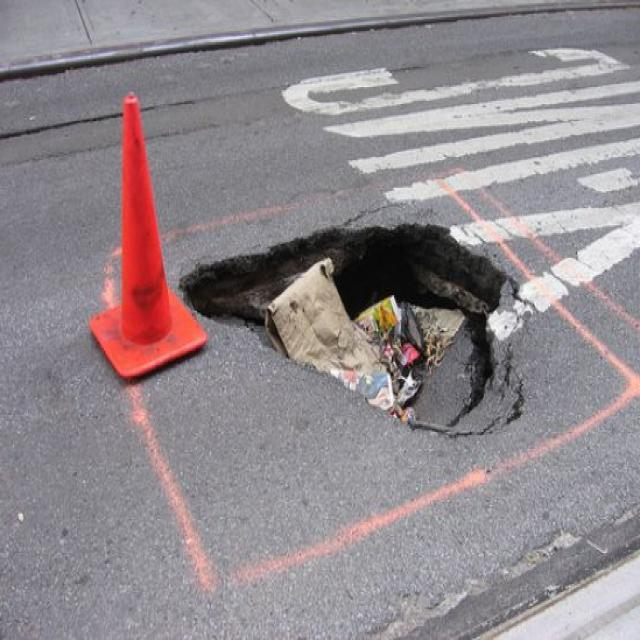pothole: (179, 212, 532, 436)
